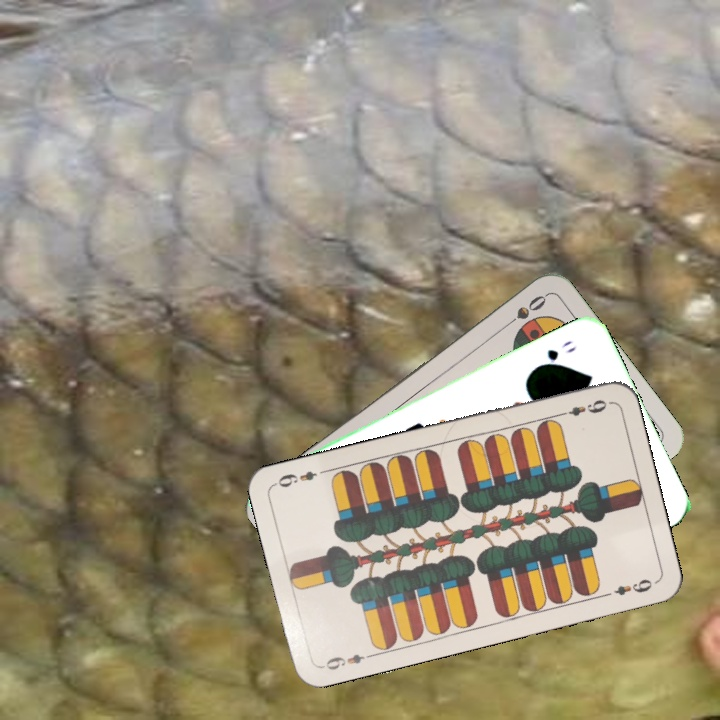E9: (553, 395, 612, 419), (317, 649, 376, 673)
GO: (531, 336, 579, 372)
SO: (498, 290, 549, 332)
